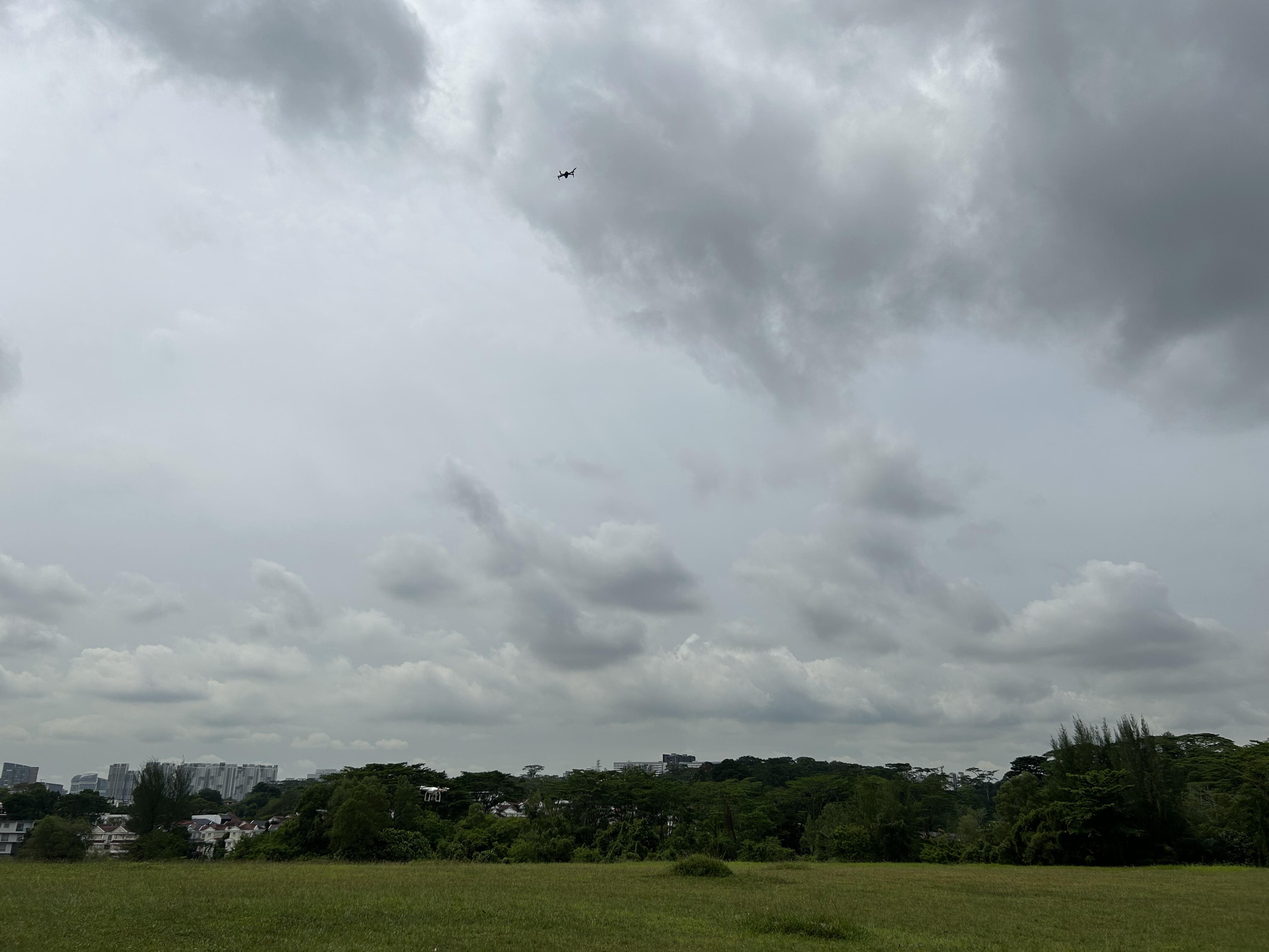drone_other: (557, 167, 577, 181)
